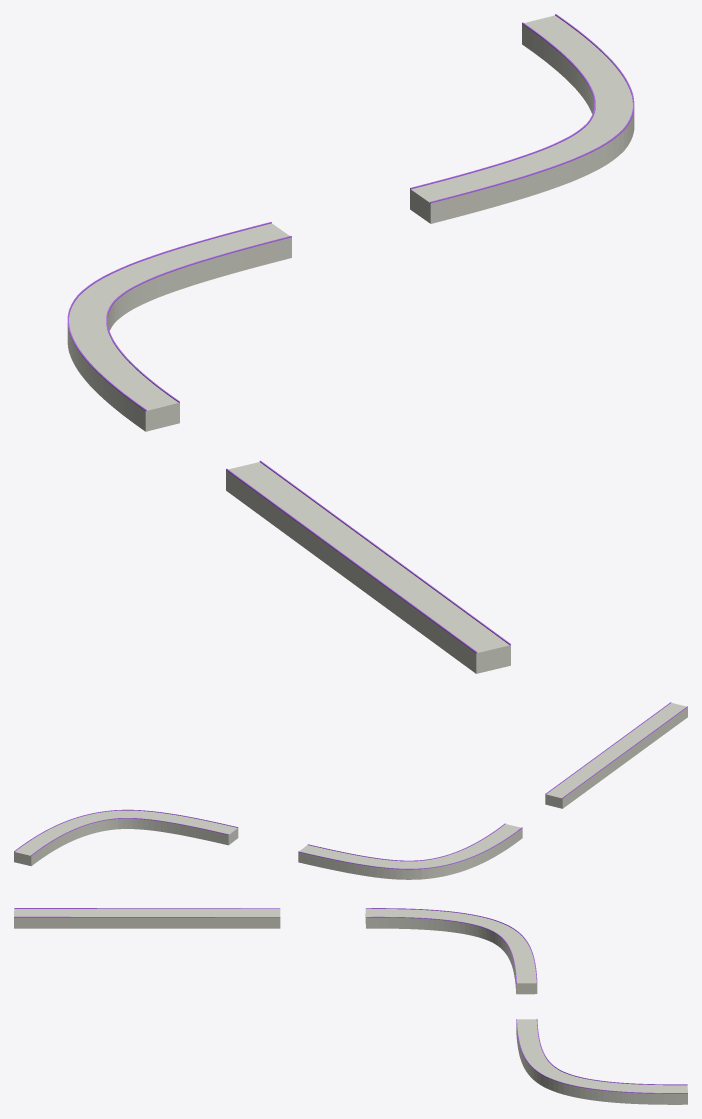
The model's file is Ramp lv 14.fbx.
The picture shows the model from 3 angles, top to bottom: view 1: azimuth 30°, elevation 25°; view 2: azimuth 150°, elevation 25°; view 3: azimuth 270°, elevation 25°; orthographic projection. The views are drawn at different scales.
Visible parts, largest first — view 1: Ramp Lv 14; view 2: Ramp Lv 14; view 3: Ramp Lv 14.
Part boxes in pixels (x1,y1,x2,y2): Ramp Lv 14: (67, 14, 634, 673); Ramp Lv 14: (14, 702, 687, 879); Ramp Lv 14: (14, 908, 687, 1104).
Bounding box in the file's own units: 15421 × 447 × 23715.
